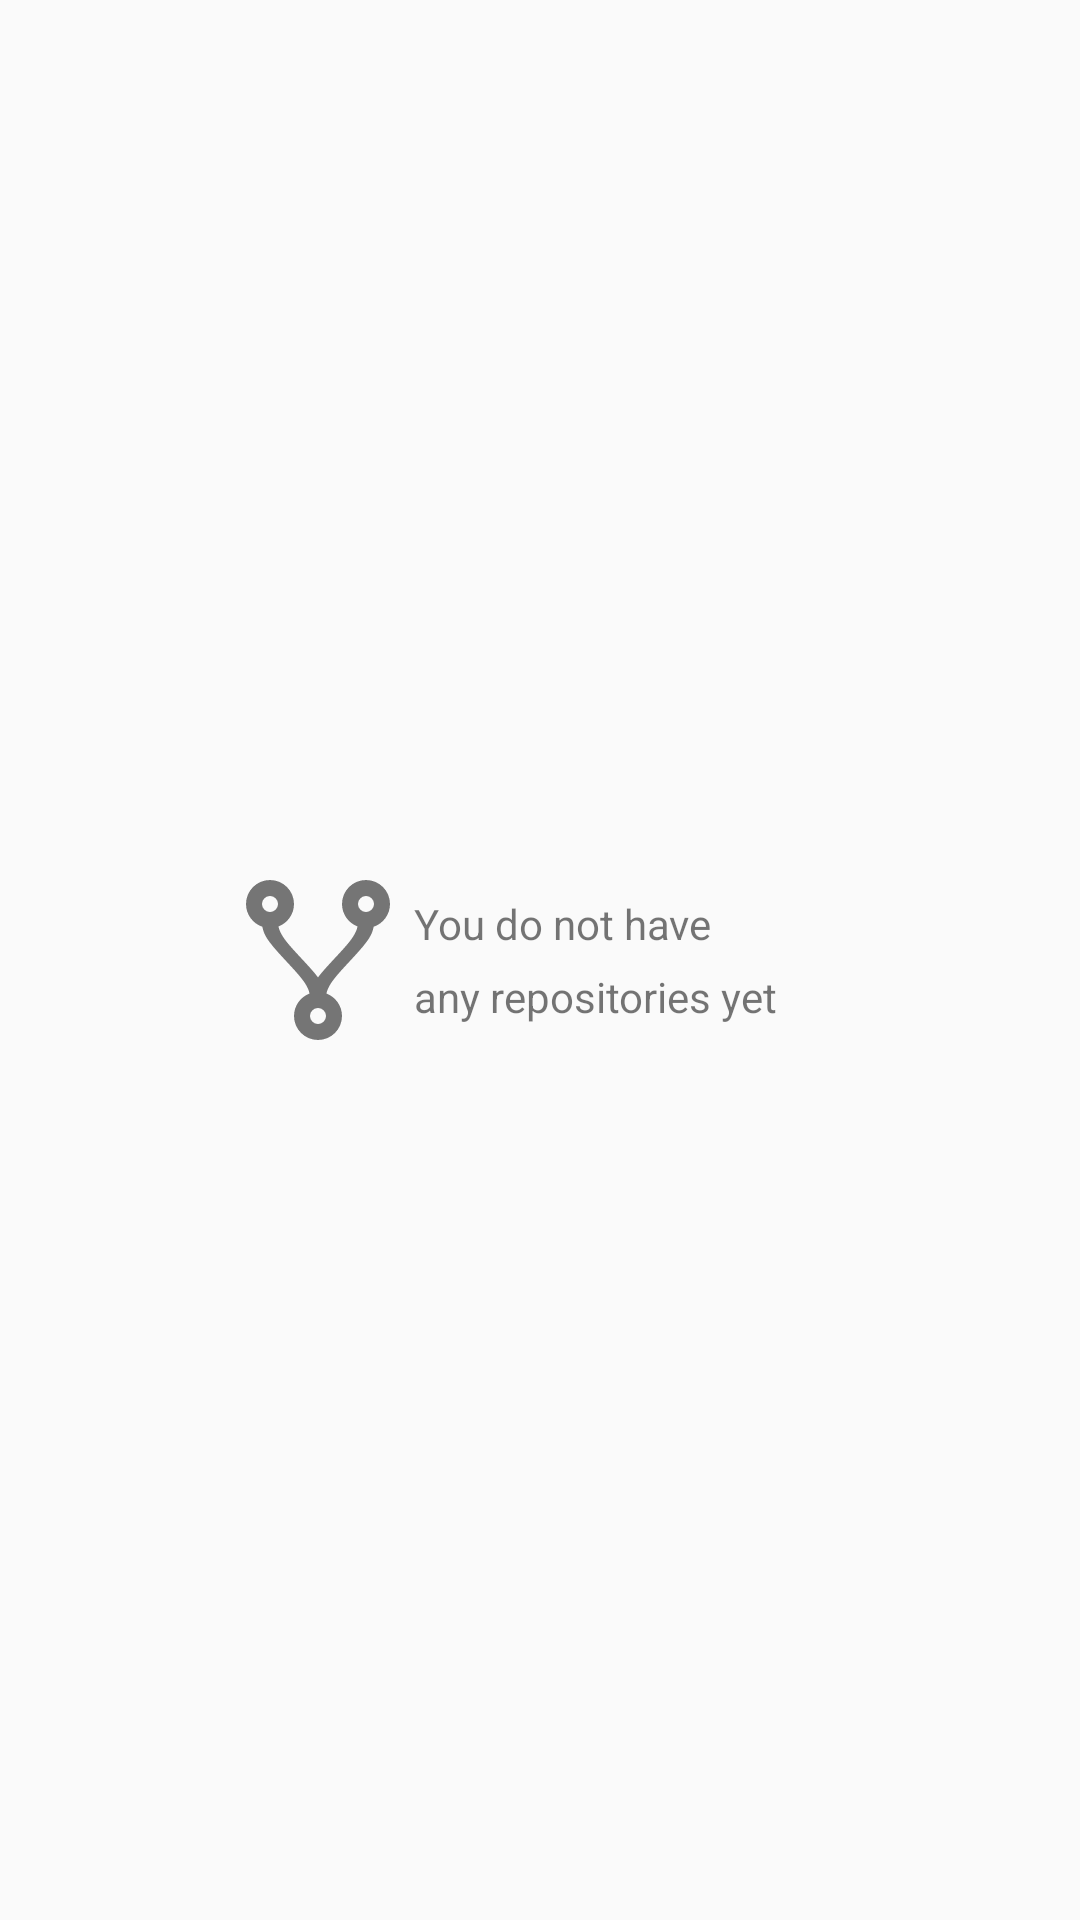

Icon bounding boxes for this 1080w x 1920h phone screenshot, format bbox(x1, y1, x2, y2):
source fork: bbox(246, 880, 390, 1040)
